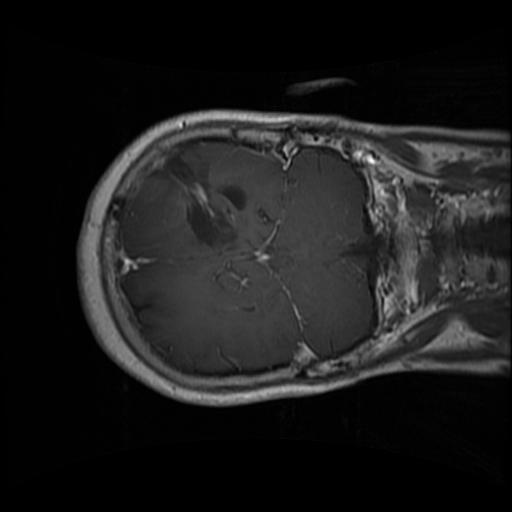glioma: (150, 156, 247, 247)
